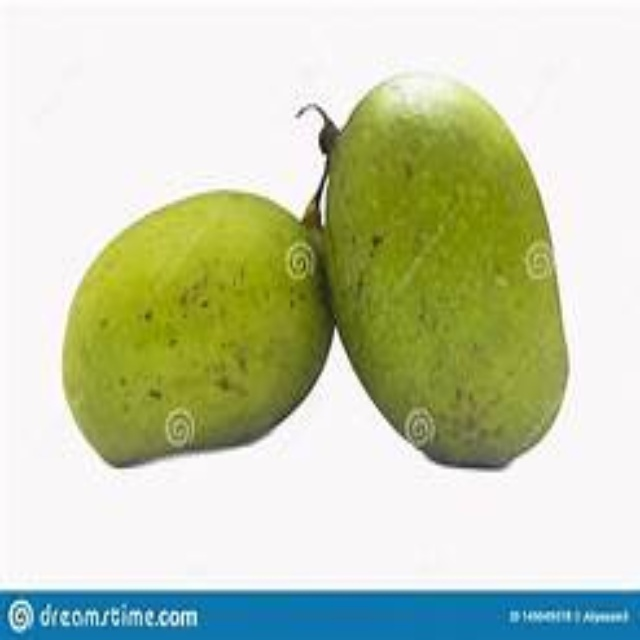mango: (318, 67, 567, 472), (56, 189, 336, 480)
